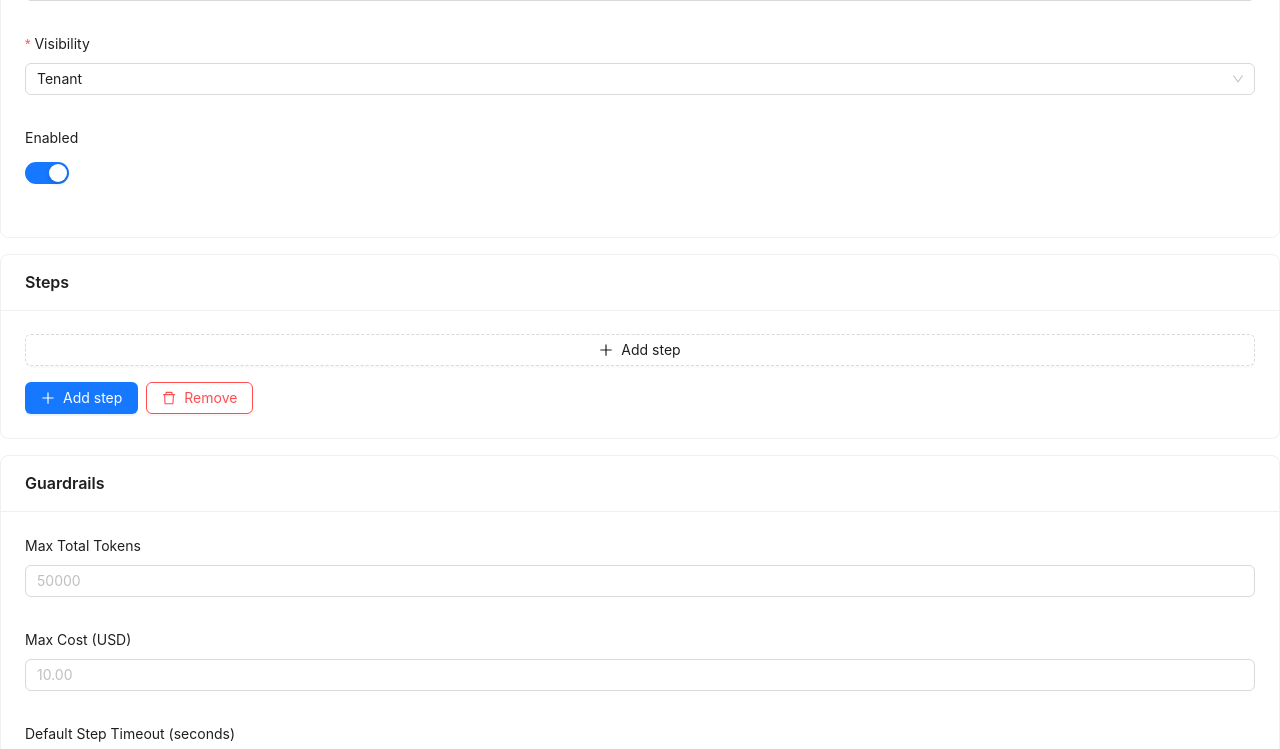
Test case: WorkflowForm › clicking Add step adds one step row
(page scrolled)
Click the 1st button "Add step" at (640, 350), box [25,334,1255,366]
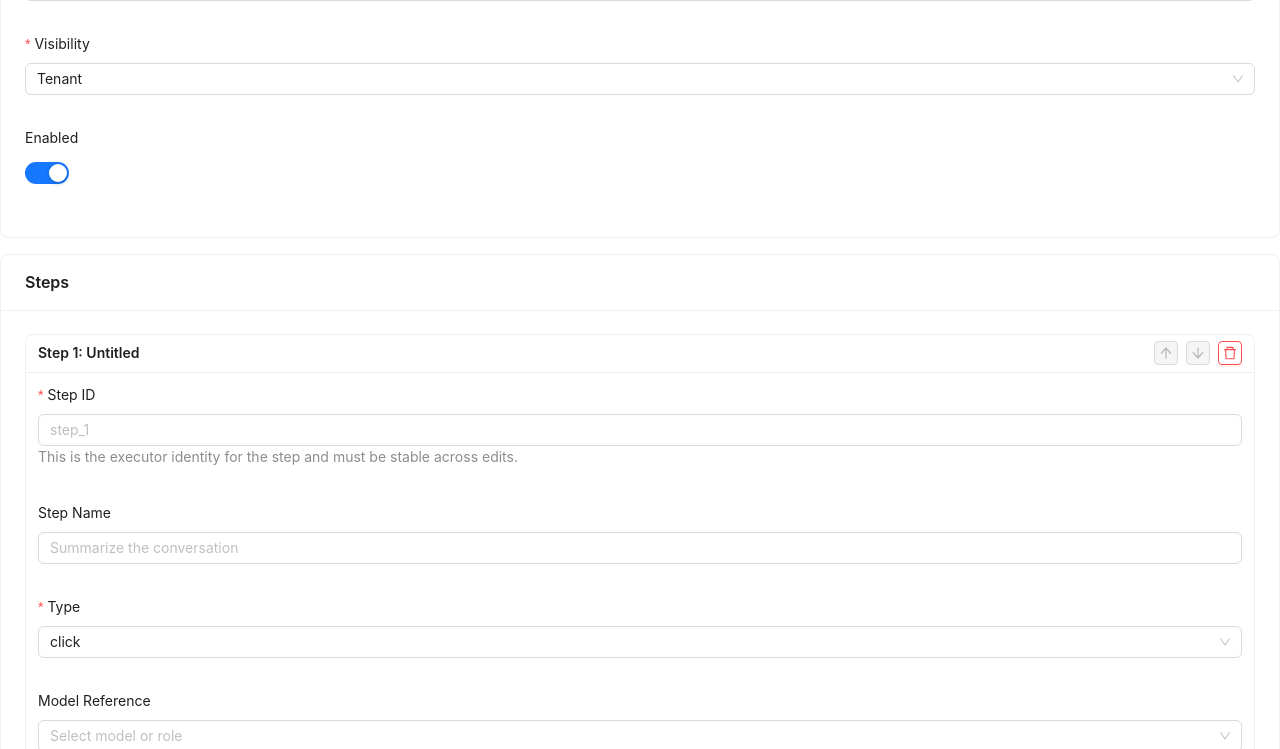
Now the field with placeholder "step_1" is shown, box [38,414,1242,446]
